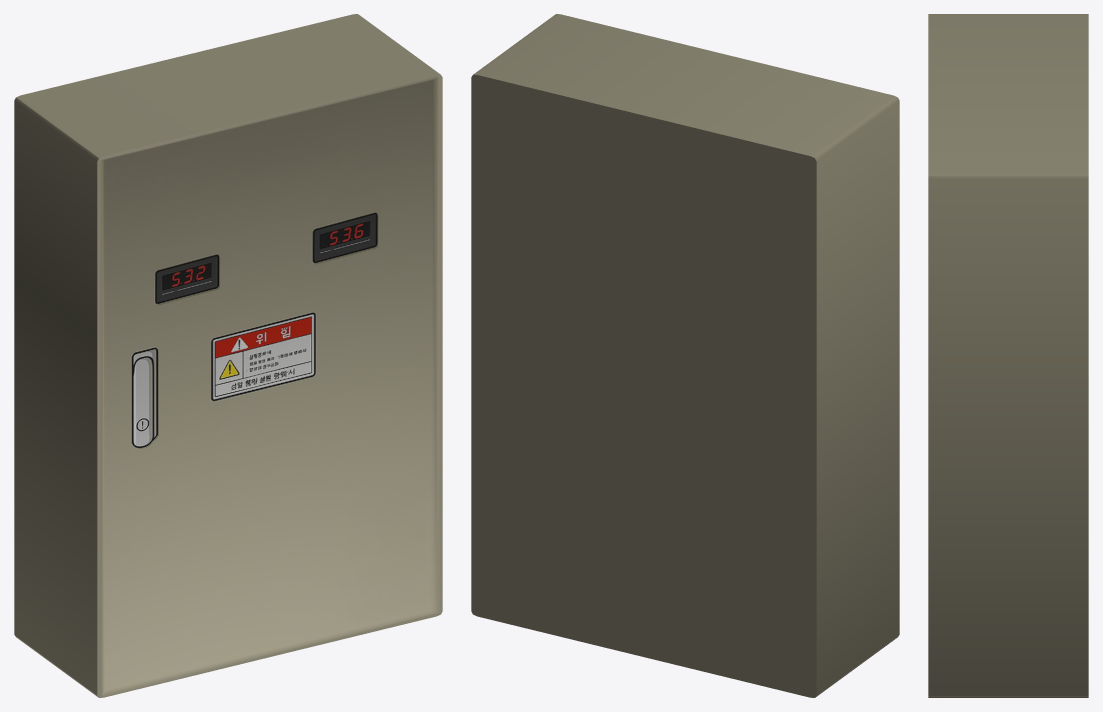
The picture shows the model from 3 angles, left to right: view 1: azimuth 30°, elevation 25°; view 2: azimuth 150°, elevation 25°; view 3: azimuth 270°, elevation 25°; orthographic projection. The views are drawn at different scales.
Visible parts, largest first — view 1: RM1-DH09W060D025; view 2: RM1-DH09W060D025; view 3: RM1-DH09W060D025.
Part boxes in pixels (x1,y1,x2,y2): RM1-DH09W060D025: [14, 14, 442, 697]; RM1-DH09W060D025: [471, 14, 899, 697]; RM1-DH09W060D025: [928, 14, 1088, 697].
Size of the model in its own units: 0.6 by 0.9 by 0.25.
Materials: 2 (1 with a texture image).
